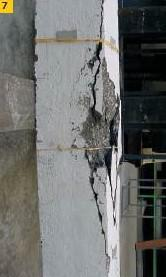spalling: (82, 58, 119, 240)
